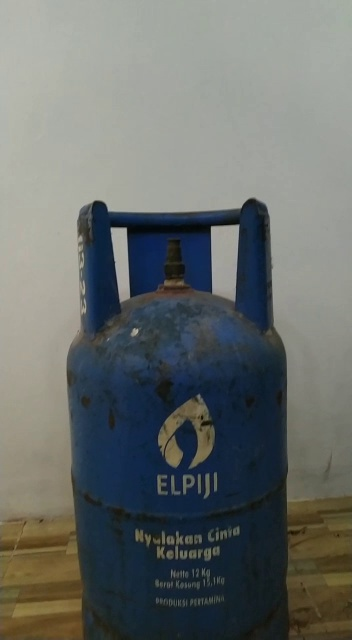blue_gas: (68, 195, 295, 640)
